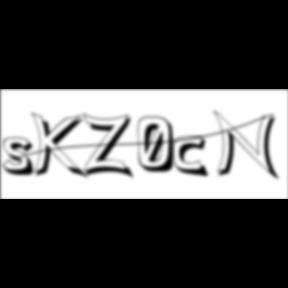0: (138, 115, 182, 174)
K: (32, 110, 90, 182)
N: (213, 109, 283, 183)
Z: (82, 112, 138, 181)
c: (173, 136, 213, 180)
s: (3, 137, 42, 179)
